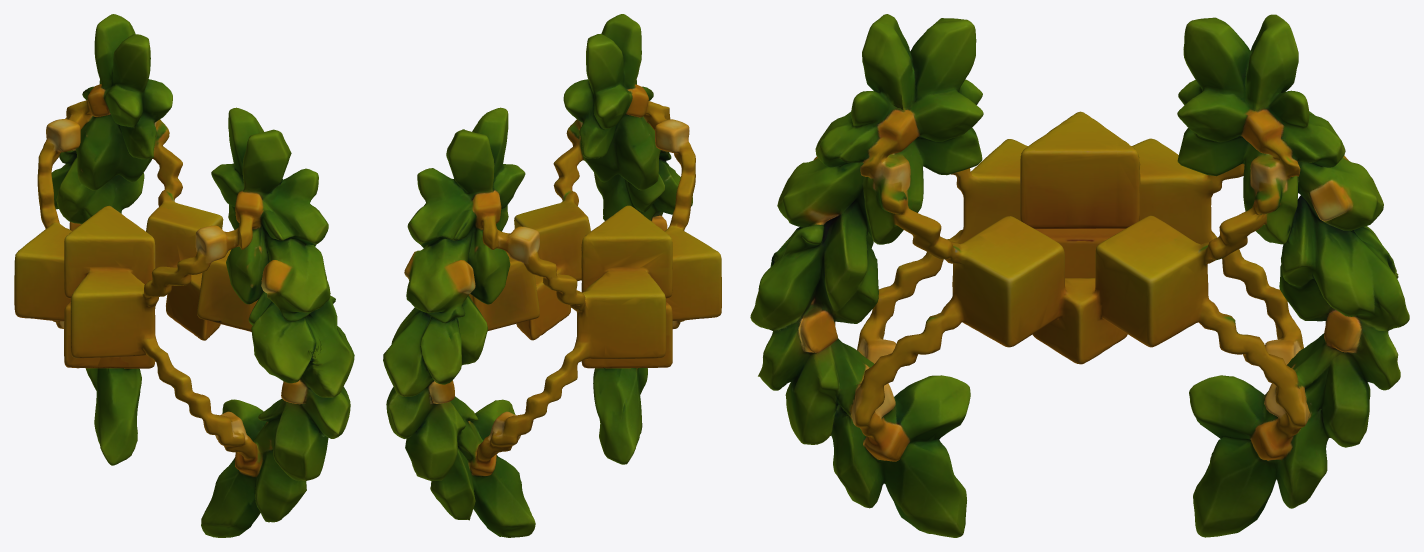
The model's file is golden_cube_wreath.glb.
3 views of the same model, side by side, from view 1: azimuth 30°, elevation 25°; view 2: azimuth 150°, elevation 25°; view 3: azimuth 270°, elevation 25° (orthographic). The views are drawn at different scales.
Visible parts, largest first — view 1: tripo_node_a1278cde; view 2: tripo_node_a1278cde; view 3: tripo_node_a1278cde.
Boxes of the visible parts, <box> form: tripo_node_a1278cde: <box>14,14,354,537</box>; tripo_node_a1278cde: <box>383,14,721,537</box>; tripo_node_a1278cde: <box>750,14,1409,537</box>.
Size of the model in its own units: 44.82 by 86.44 by 97.46.
1 material, 1 textured.
